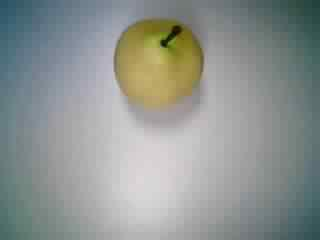pear: (101, 12, 214, 114)
